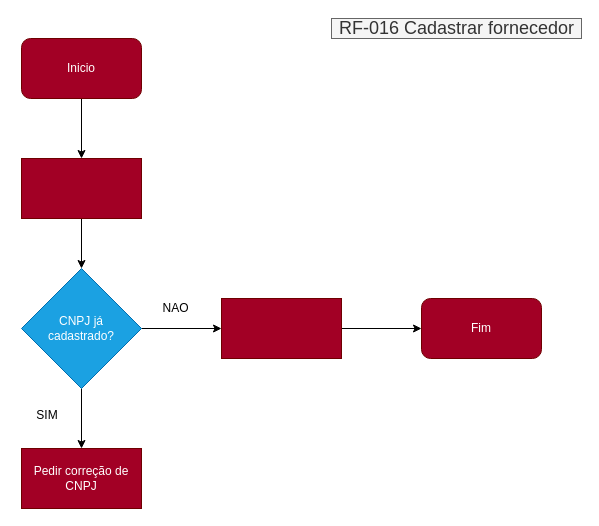
Some shapes in this 599 by 526 pixel diagram are drawn without their labels. The shapes that lost their labels are listed below. From the top down, each one's centre as x and y in pixels, then its label:
At point (81, 188): "Cadastrar fornecedor".
At point (281, 328): "Processar cadastro".
